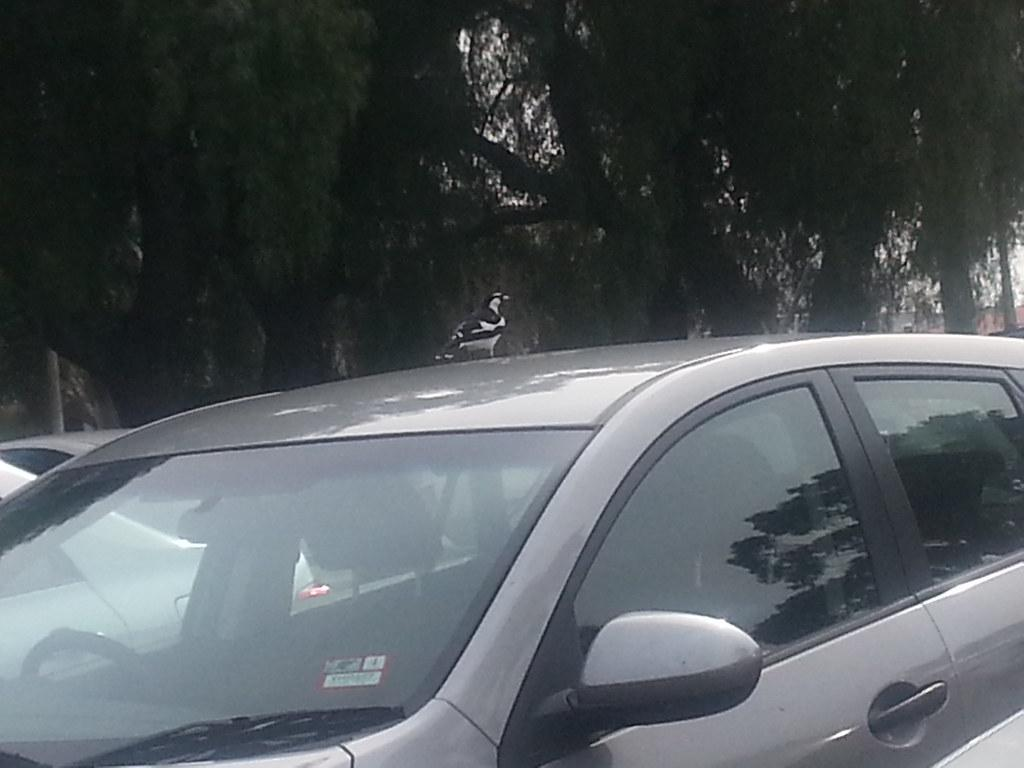car: (1, 332, 1024, 768)
